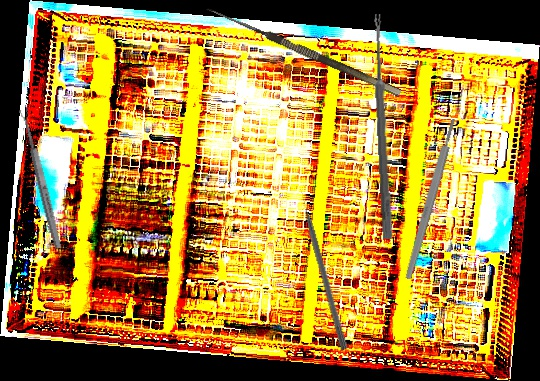Hook Surgical: (201, 3, 402, 108)
Pusher: (297, 188, 350, 351)
Scalpel Handle: (403, 117, 459, 281)
Surgical Spoon: (18, 107, 64, 250), (371, 13, 394, 240)
